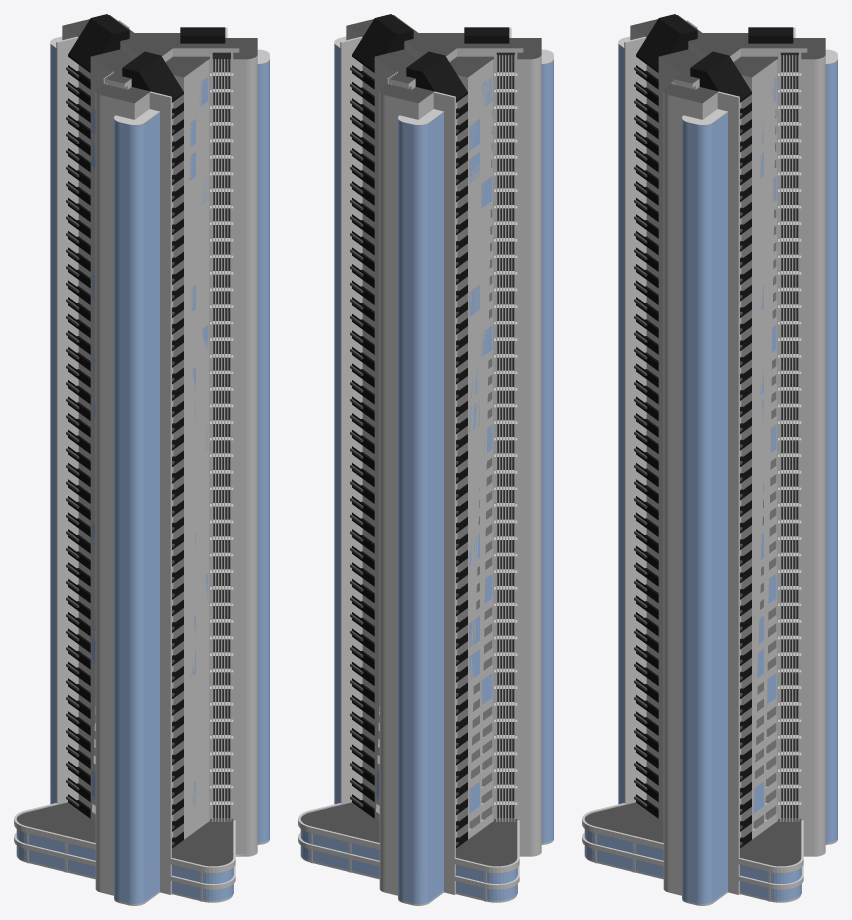
File: Skyscraper2.fbx
3 views of the same model, side by side, from view 1: azimuth 30°, elevation 25°; view 2: azimuth 150°, elevation 25°; view 3: azimuth 270°, elevation 25° (orthographic).
Visible parts, largest first — view 1: Mesh1 Model.001; view 2: Mesh1 Model.001; view 3: Mesh1 Model.001.
Part boxes in pixels (x1,y1,x2,y2): Mesh1 Model.001: (14, 14, 269, 905); Mesh1 Model.001: (298, 14, 553, 905); Mesh1 Model.001: (582, 14, 837, 905).
Bounding box in the file's own units: 409 × 1474 × 420.
